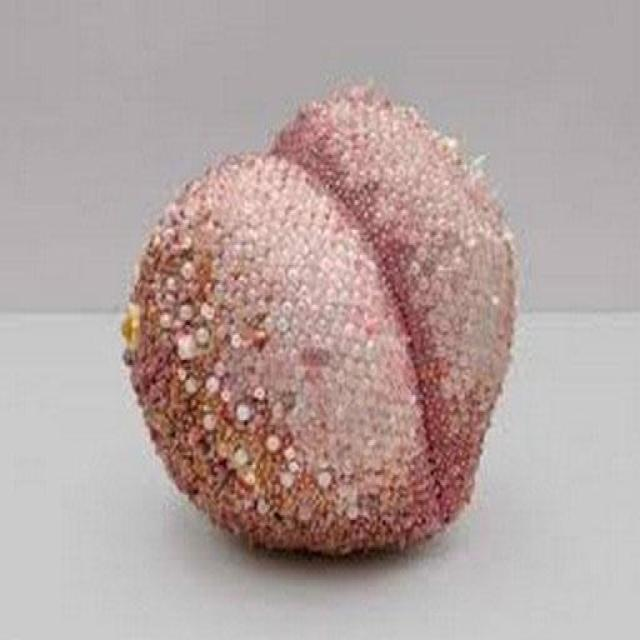organic: (121, 82, 521, 562)
